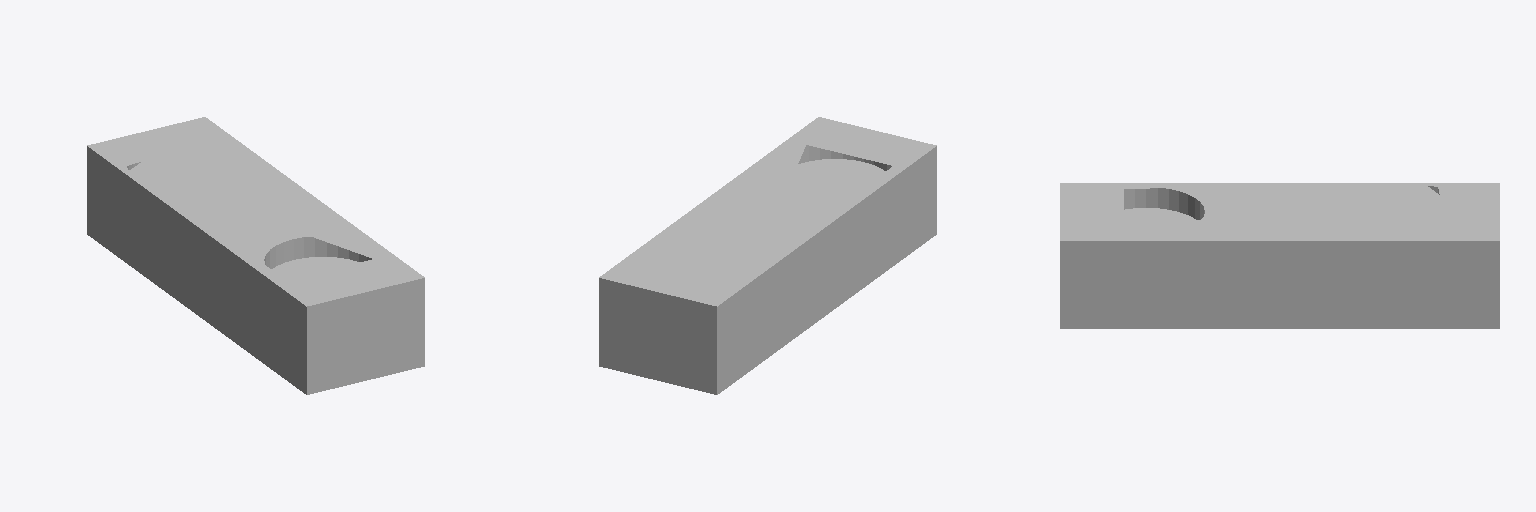
Rendered from phonebox.obj.
The picture shows the model from 3 angles: view 1: azimuth 30°, elevation 25°; view 2: azimuth 150°, elevation 25°; view 3: azimuth 270°, elevation 25°; orthographic projection.
Parts seen in each view (by area): view 1: Cube; view 2: Cube; view 3: Cube.
Part boxes in pixels (x1,y1,x2,y2): Cube: (87,117,424,394); Cube: (599,117,936,394); Cube: (1060,183,1499,328).
Size of the model in its own units: 2.8 by 2 by 9.